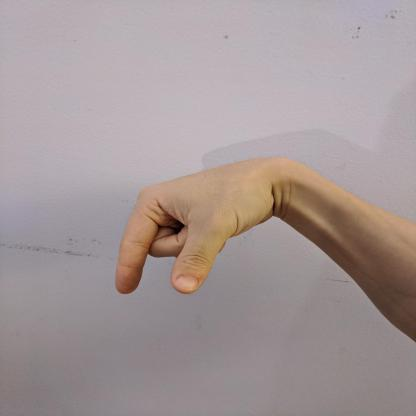Q: (115, 157, 279, 294)
